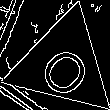O_NE: (30, 31, 96, 97)
